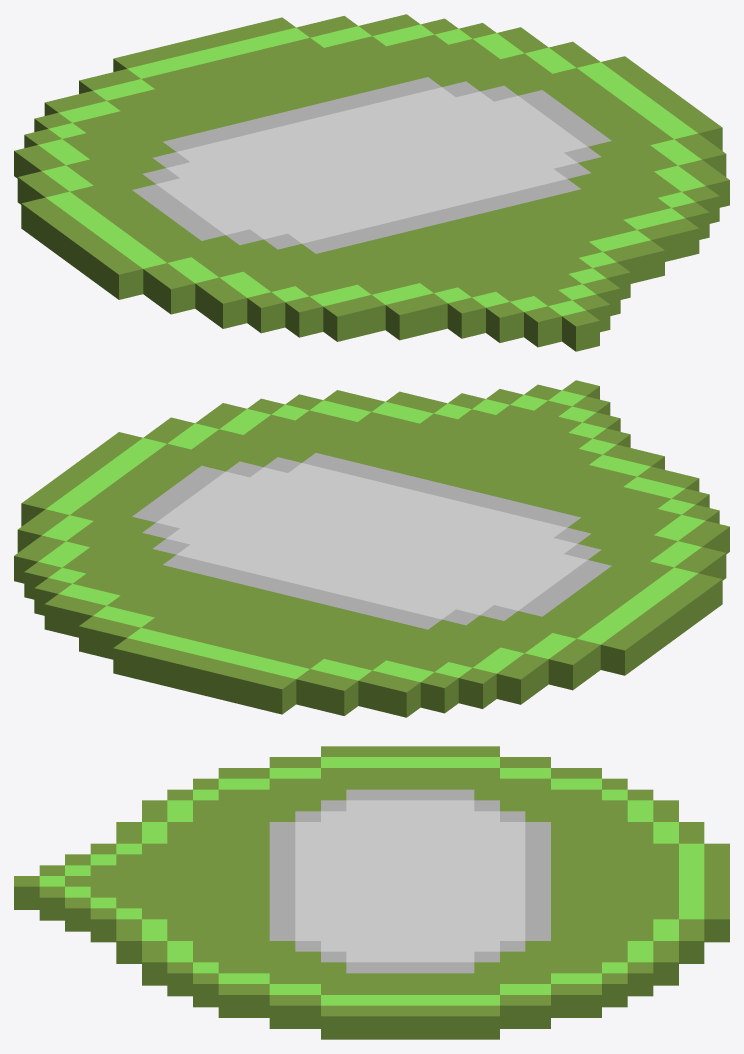
The model's file is powder_mantow_pic.fbx.
The picture shows the model from 3 angles, top to bottom: view 1: azimuth 30°, elevation 25°; view 2: azimuth 150°, elevation 25°; view 3: azimuth 270°, elevation 25°; orthographic projection. The views are drawn at different scales.
Parts seen in each view (by area): view 1: powder_mantow_pic:Mesh; view 2: powder_mantow_pic:Mesh; view 3: powder_mantow_pic:Mesh.
Boxes of the visible parts, left/top/right/bottom form: powder_mantow_pic:Mesh: left=14, top=14, right=729, bottom=351; powder_mantow_pic:Mesh: left=14, top=380, right=729, bottom=717; powder_mantow_pic:Mesh: left=14, top=746, right=729, bottom=1039.
Bounding box in the file's own units: 25 × 1 × 28.
